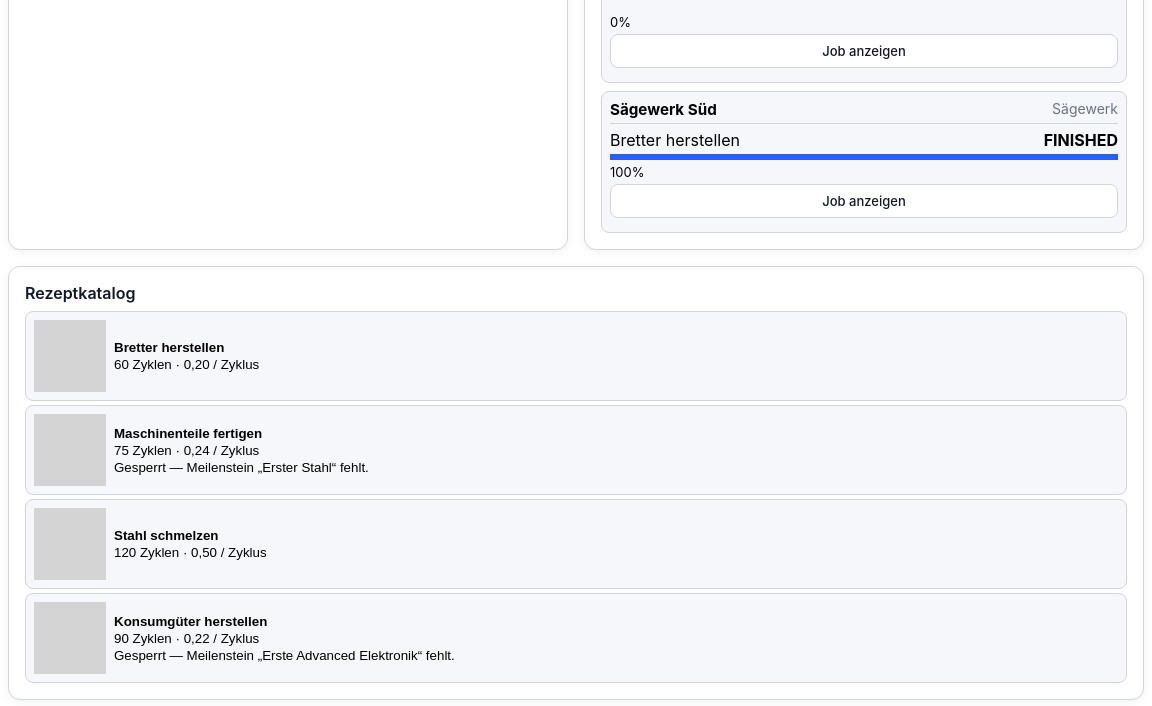
Test case: ProductionScreen › shows empty origin copy for inputs without catalog producers
(page scrolled)
Click the button "Bretter herstellen 60 Zyklen · 0,20 / Zyklus" at (70,356), box [25,311,1127,401]
(page scrolled)
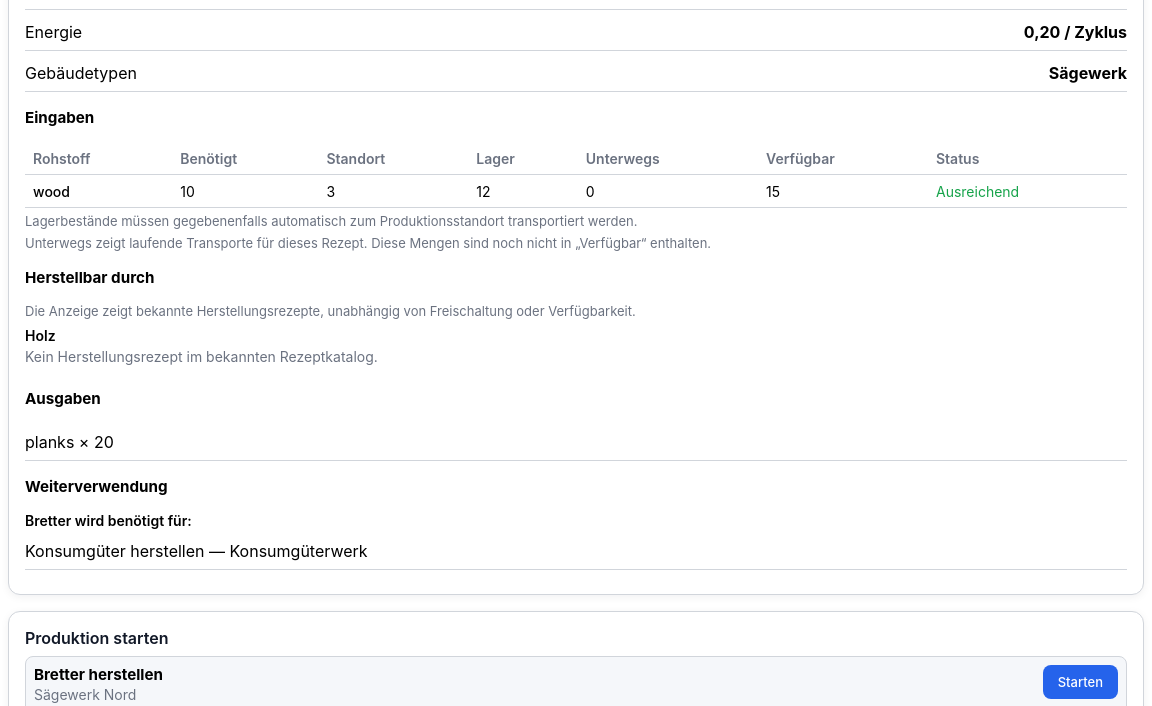
Check: the text "Kein Herstellungsrezept im bekannten Rezeptkatalog." is shown, box [25,348,378,365]
